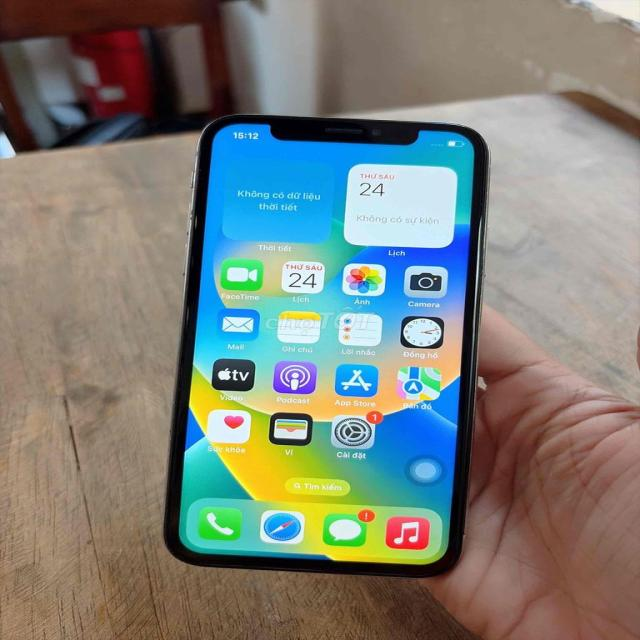gen_x_xs: (155, 114, 500, 590)
